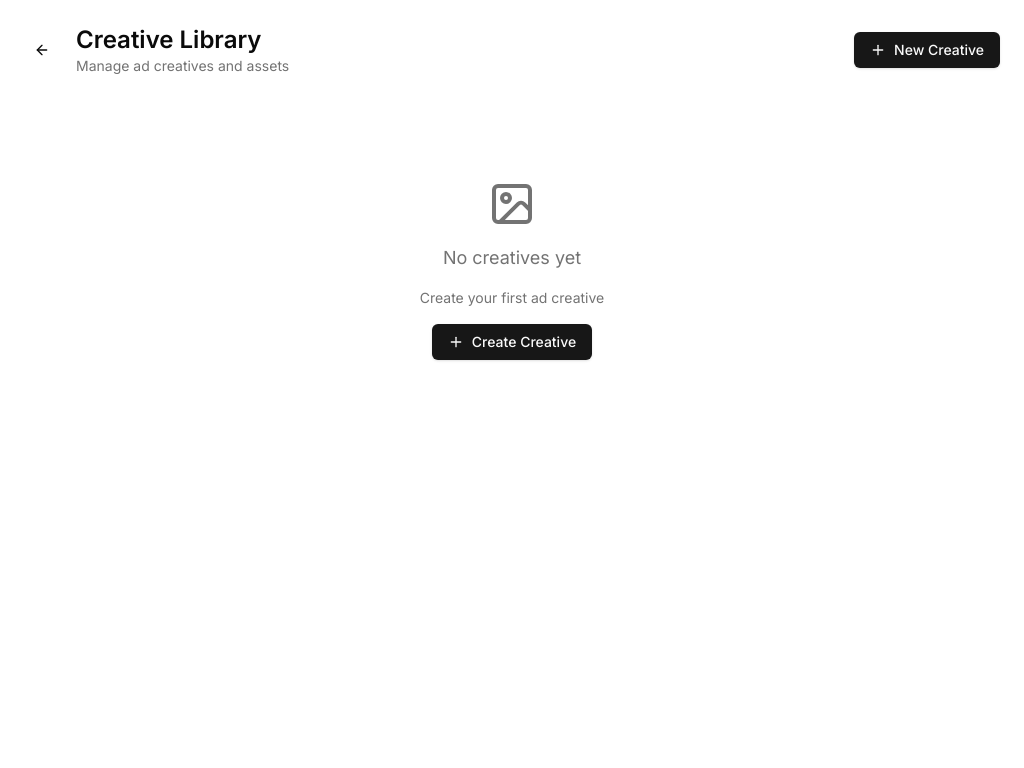
CreativesPage › opens create form
The image size is (1024, 768).
What coordinates should you click on to do the following:
click the button "New Creative"
I would click on:
 (927, 50)
Its box is [854,32,1000,68].
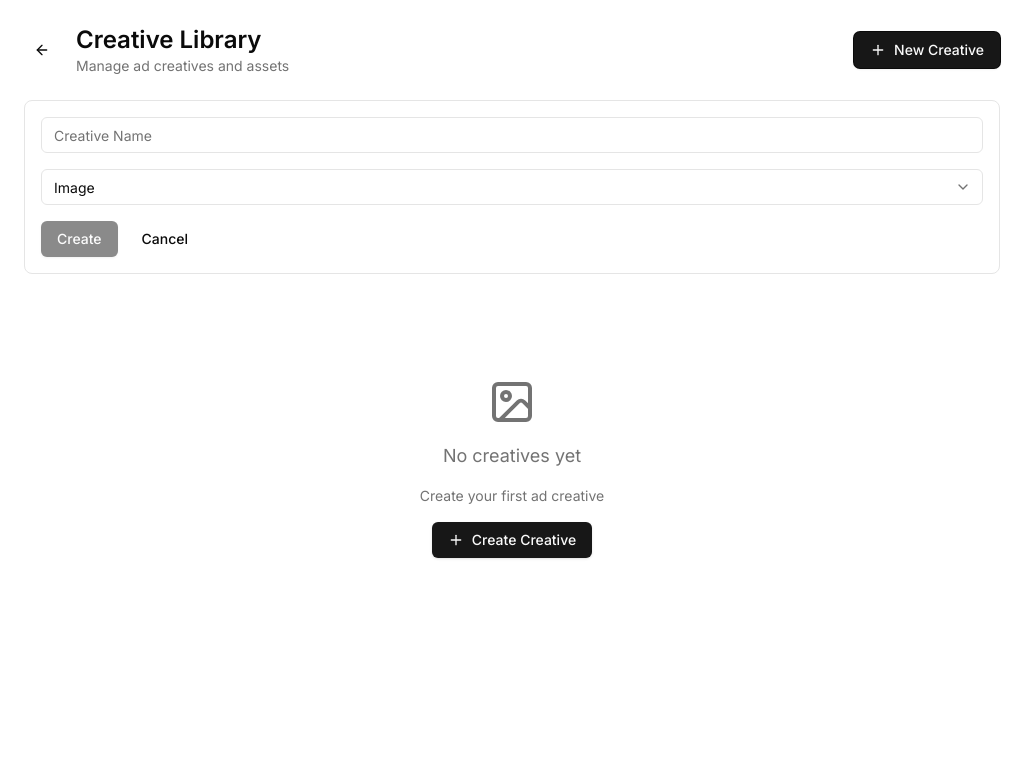
Now the field with placeholder "Creative Name" is shown, box [41,117,983,153]
